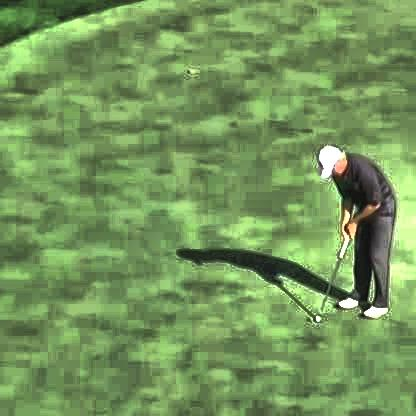golfball: (310, 310, 317, 317)
